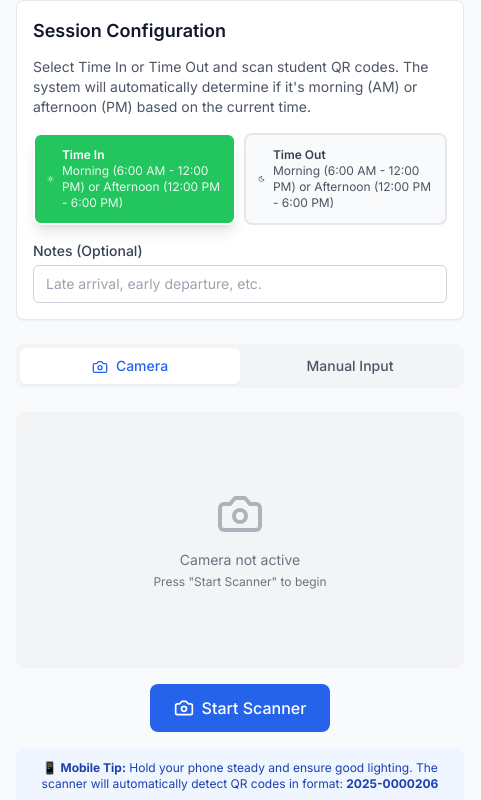
Test case: Enhanced QRScanner Component › allows switching between camera and manual modes
Click the button "Manual Input" at (350, 366), box [240,348,460,384]
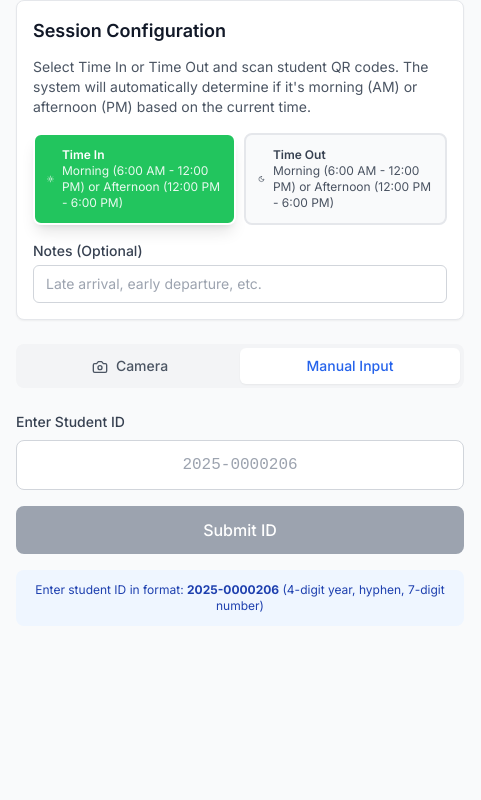
Expected: the text "Enter Student ID" is shown, [16,413,125,430]
Expected: the field with placeholder "2025-0000206" is shown, [16,440,464,490]
